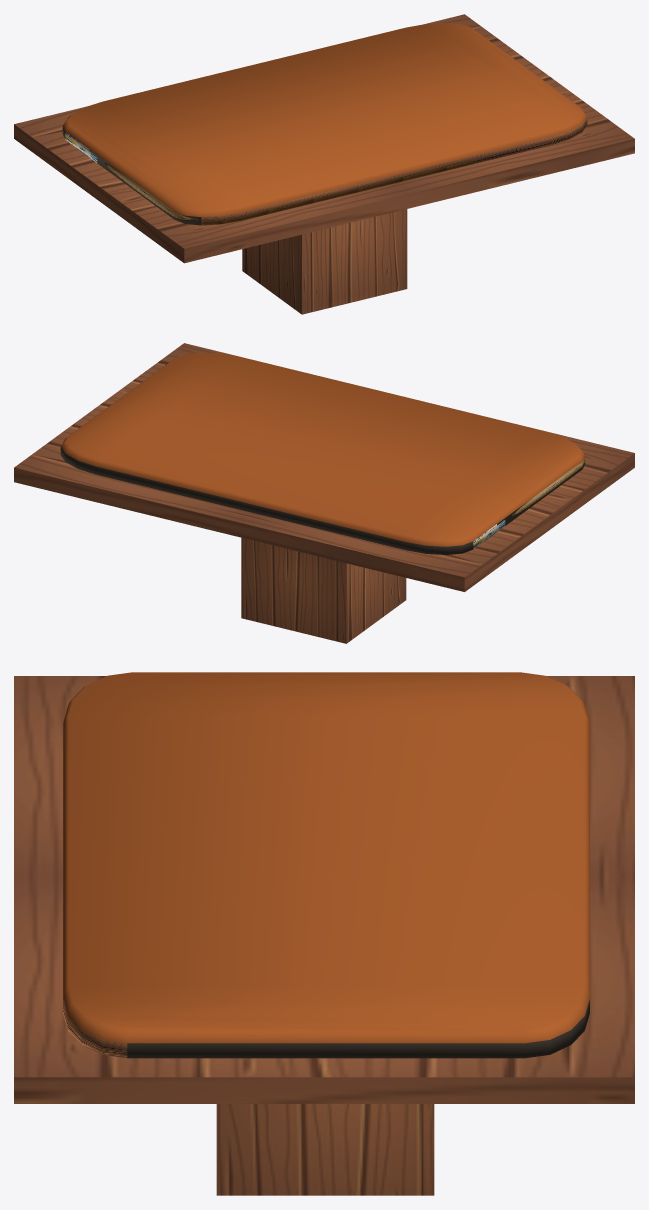
The model's file is Table5.fbx.
3 renders of one model, top to bottom at view 1: azimuth 30°, elevation 25°; view 2: azimuth 150°, elevation 25°; view 3: azimuth 270°, elevation 25°, orthographic. The views are drawn at different scales.
Parts seen in each view (by area): view 1: Table5; view 2: Table5; view 3: Table5.
Part boxes in pixels (<box>): Table5: <box>14,14,634,314</box>; Table5: <box>14,343,634,643</box>; Table5: <box>14,672,634,1195</box>.
Size of the model in its own units: 2729 by 1784 by 945.
